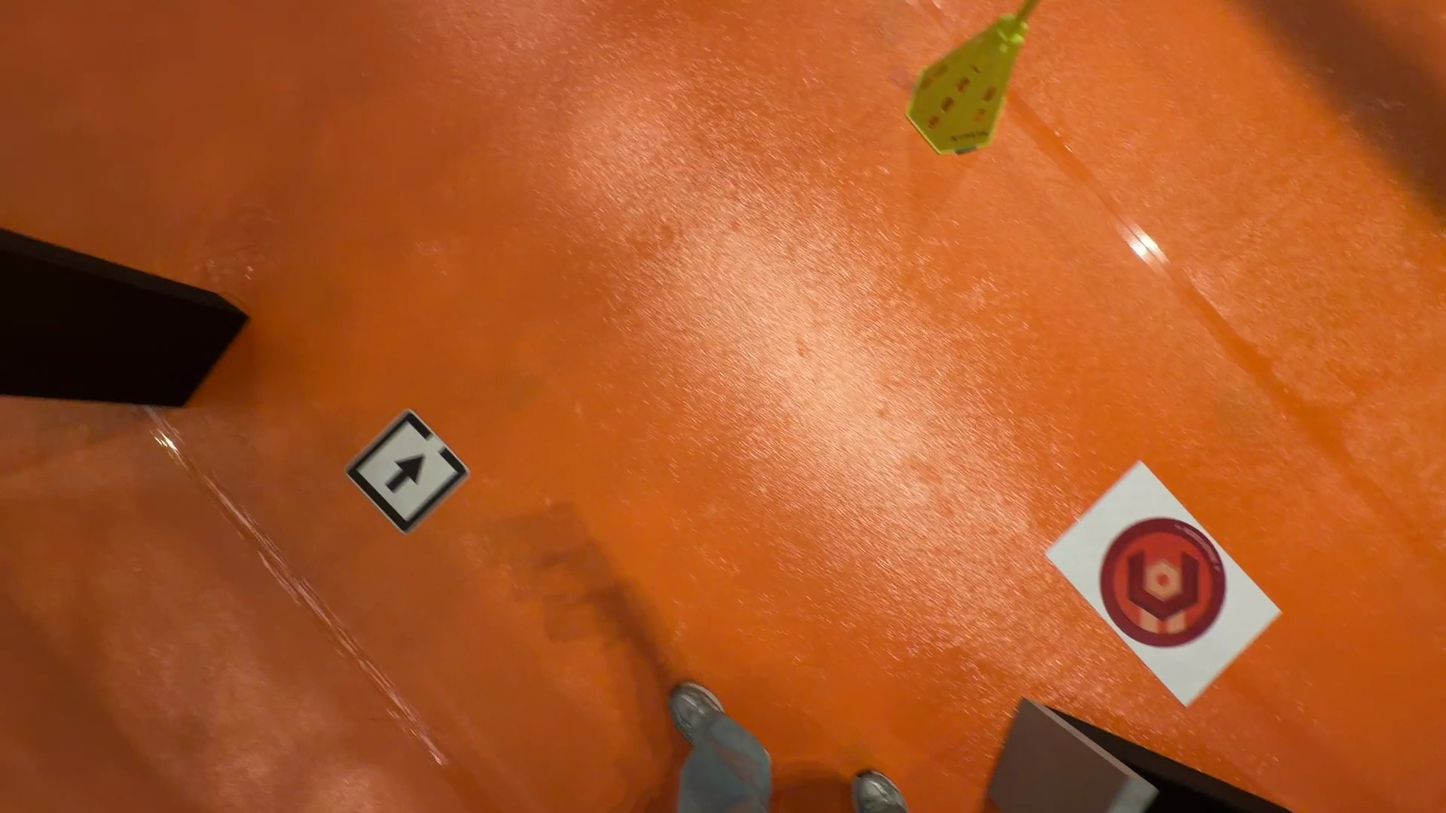landing_pad: (1095, 518, 1230, 650)
